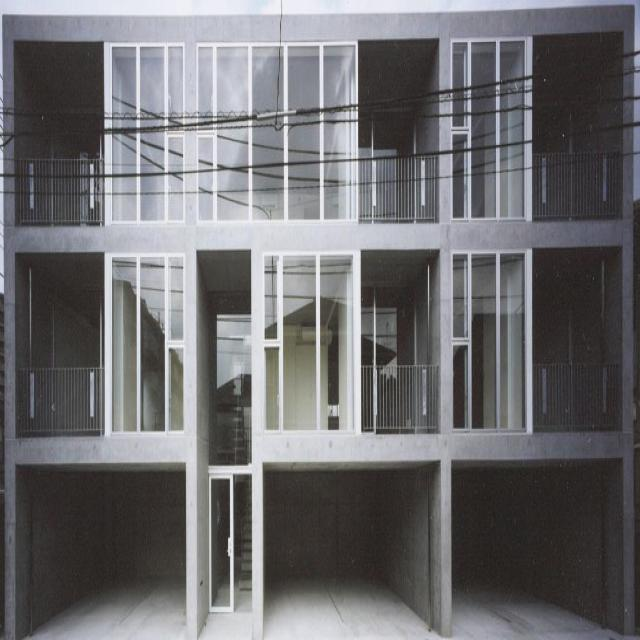door: (208, 478, 252, 609)
railing: (16, 373, 103, 438), (16, 162, 102, 225), (361, 362, 439, 431), (532, 156, 616, 220), (534, 367, 618, 428), (360, 160, 433, 218)
window: (195, 48, 353, 223), (263, 257, 352, 430), (109, 47, 184, 217), (452, 255, 522, 433), (451, 47, 521, 221), (112, 264, 183, 435), (208, 297, 252, 466), (359, 286, 415, 362), (360, 112, 414, 162)
